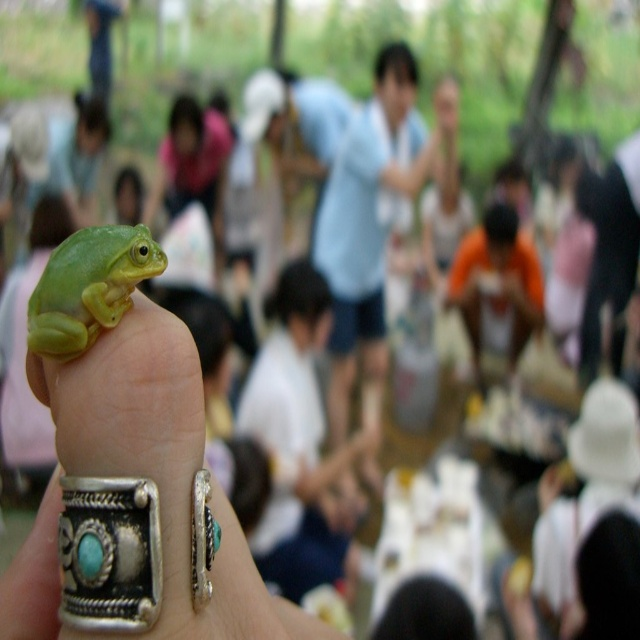Frog: (24, 224, 168, 362)
